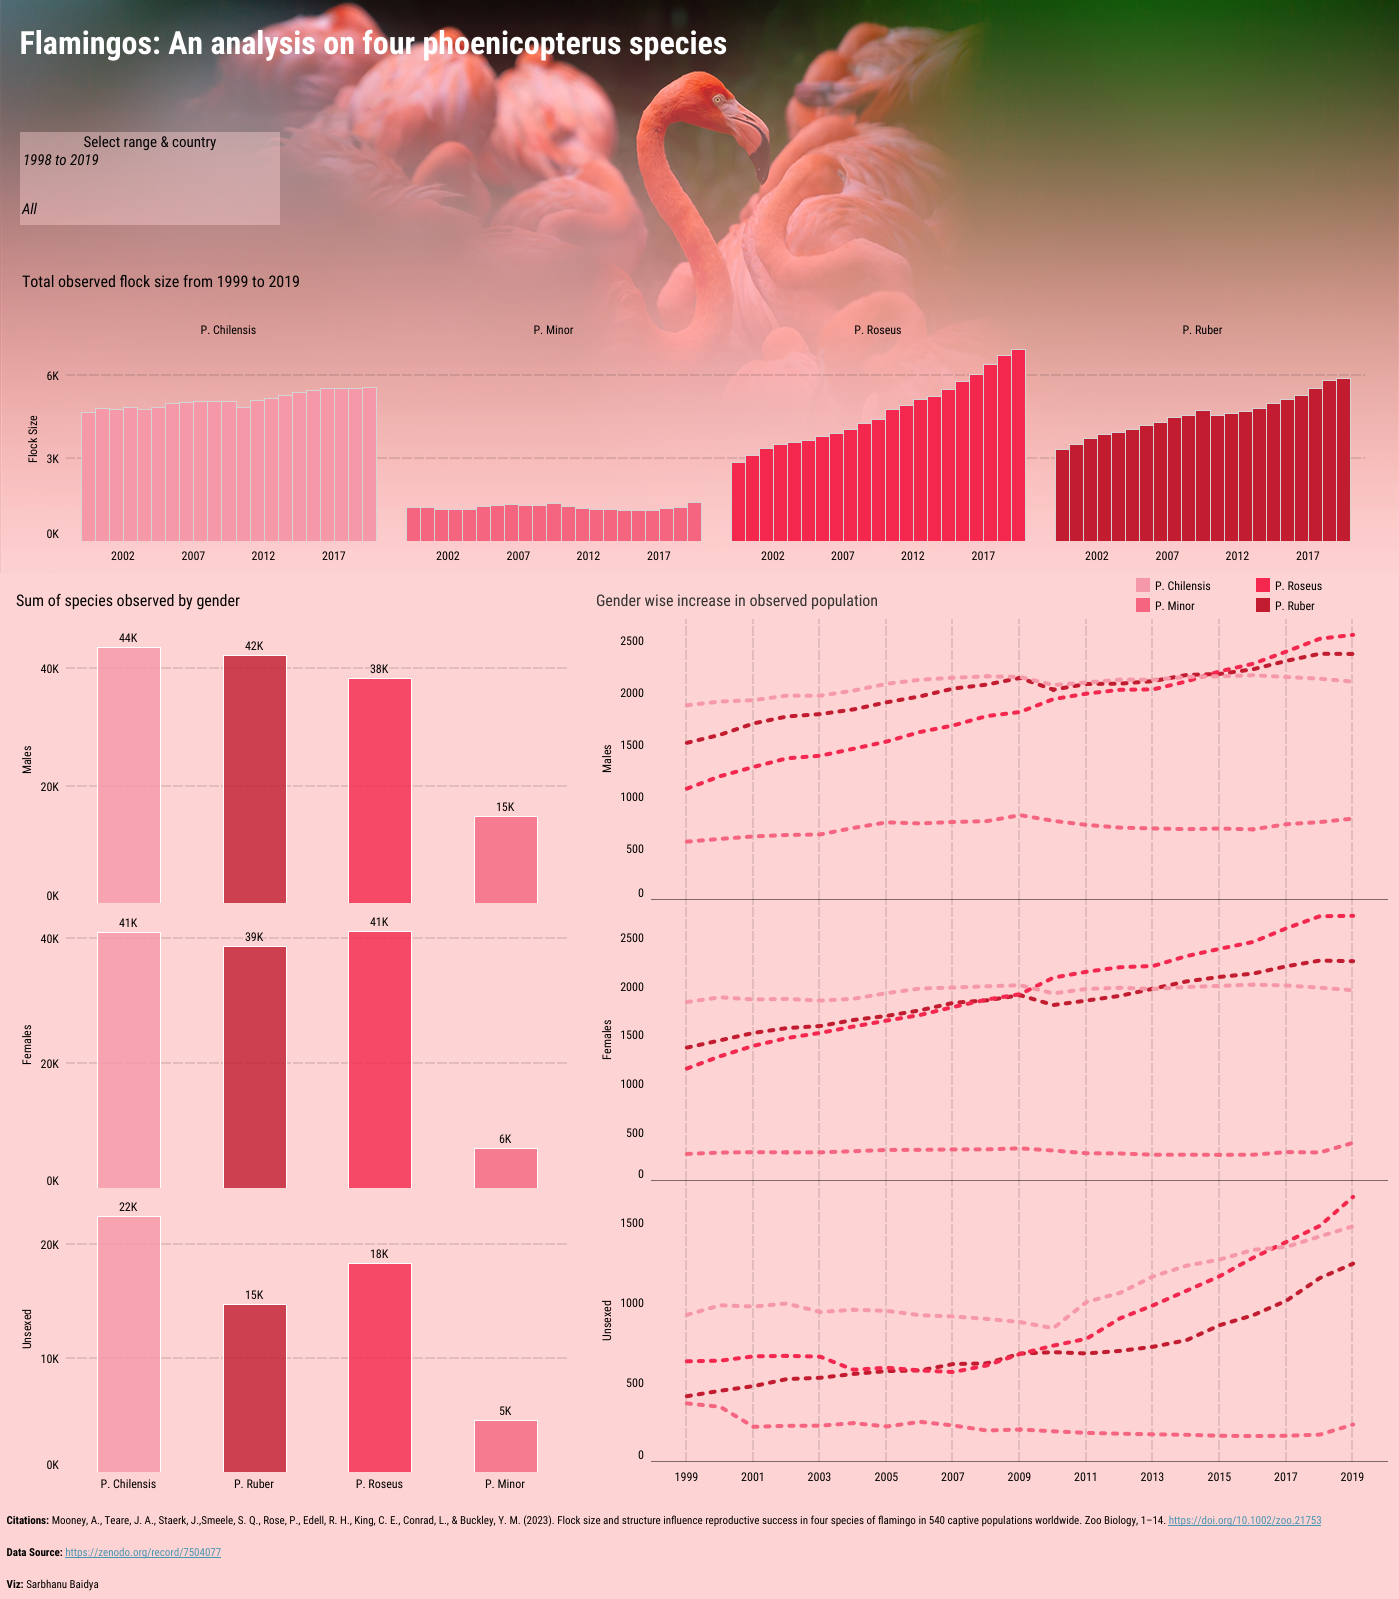

The dashboard page shown, as its layout file describes it:
{"tool":"tableau","page":{"name":"Flamingos: An analysis on four phoenicopterus species","canvas":[1400,1600],"ordinal":0},"visuals":[{"type":"image","param":"Image/backgr.png","box":[0,0,1400,573]},{"type":"title","box":[18,17.5,901,51.4]},{"type":"filter","title":"Total observed flock size from","param":"[federated.0wpwugg06m53on1cebn3v1x6kf7v].[none:Year:qk]","box":[20,131.9,260,67.9]},{"type":"filter","title":"Total observed flock size from","param":"[federated.0wpwugg06m53on1cebn3v1x6kf7v].[none:Country:nk]","box":[20,199.8,260,25.2]},{"type":"worksheet","title":"Total observed flock size from","mark":"Bar","rows":["Flock Size"],"cols":["Species","Year"],"box":[6,254,1371,329]},{"type":"worksheet","title":"Sum of species observed by gender","mark":"Automatic","rows":["Males","Females","Unsexed"],"cols":["Species"],"box":[0,573,580,931]},{"type":"worksheet","title":"Gender wise increase in observed population","mark":"Line","rows":["Males","Females","Unsexed"],"cols":["Year"],"box":[580,573,820,931]},{"type":"legend","title":"Gender wise increase in observed population","param":"[federated.0wpwugg06m53on1cebn3v1x6kf7v].[none:Species:nk]","box":[1133,575,265,46.5]},{"type":"text","box":[0,1504,1400,32]},{"type":"text","box":[0,1536,1400,32]},{"type":"text","box":[0,1568,1400,32]}]}

Visuals, with their boxes in screenshot pixels (x1, y1, x2, y2), scaled from the page's 1400x1600 canvas onto the 1399x1599 screenshot:
image: {"left": 0, "top": 0, "right": 1398, "bottom": 573}
title: {"left": 18, "top": 17, "right": 918, "bottom": 69}
"Total observed flock size from" filter: {"left": 20, "top": 132, "right": 280, "bottom": 200}
"Total observed flock size from" filter: {"left": 20, "top": 200, "right": 280, "bottom": 225}
"Total observed flock size from" worksheet (Bar marks): {"left": 6, "top": 254, "right": 1376, "bottom": 583}
"Sum of species observed by gender" worksheet: {"left": 0, "top": 573, "right": 580, "bottom": 1503}
"Gender wise increase in observed population" worksheet (Line marks): {"left": 580, "top": 573, "right": 1398, "bottom": 1503}
"Gender wise increase in observed population" legend: {"left": 1132, "top": 575, "right": 1397, "bottom": 621}
text: {"left": 0, "top": 1503, "right": 1398, "bottom": 1535}
text: {"left": 0, "top": 1535, "right": 1398, "bottom": 1567}
text: {"left": 0, "top": 1567, "right": 1398, "bottom": 1598}
